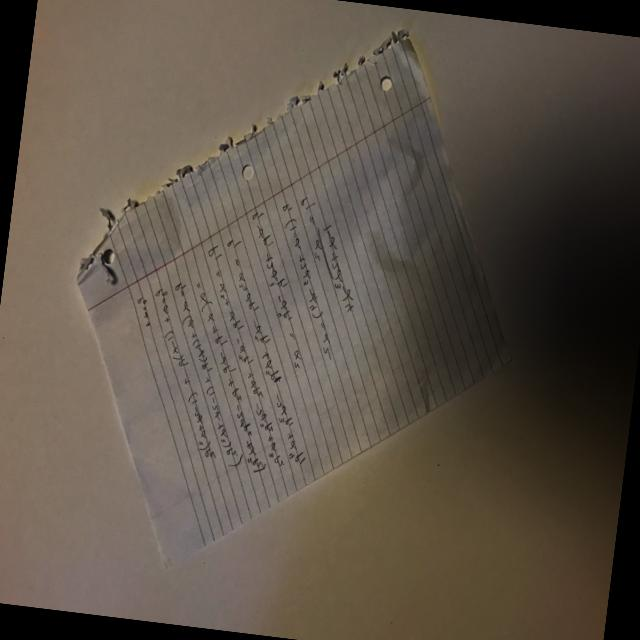Paper: (28, 0, 554, 623)
